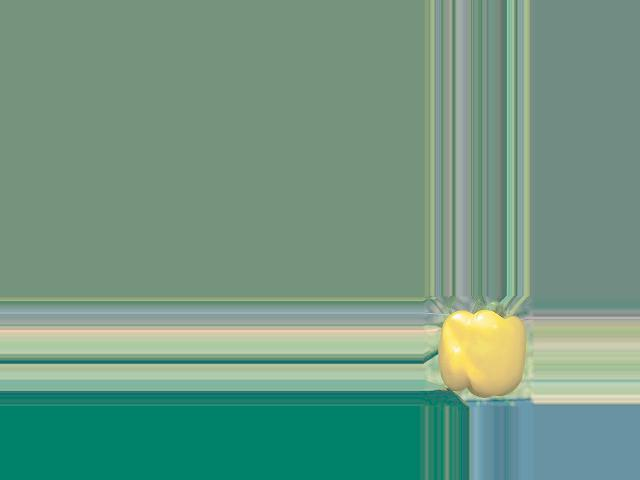bell_pepper: (431, 301, 531, 398)
